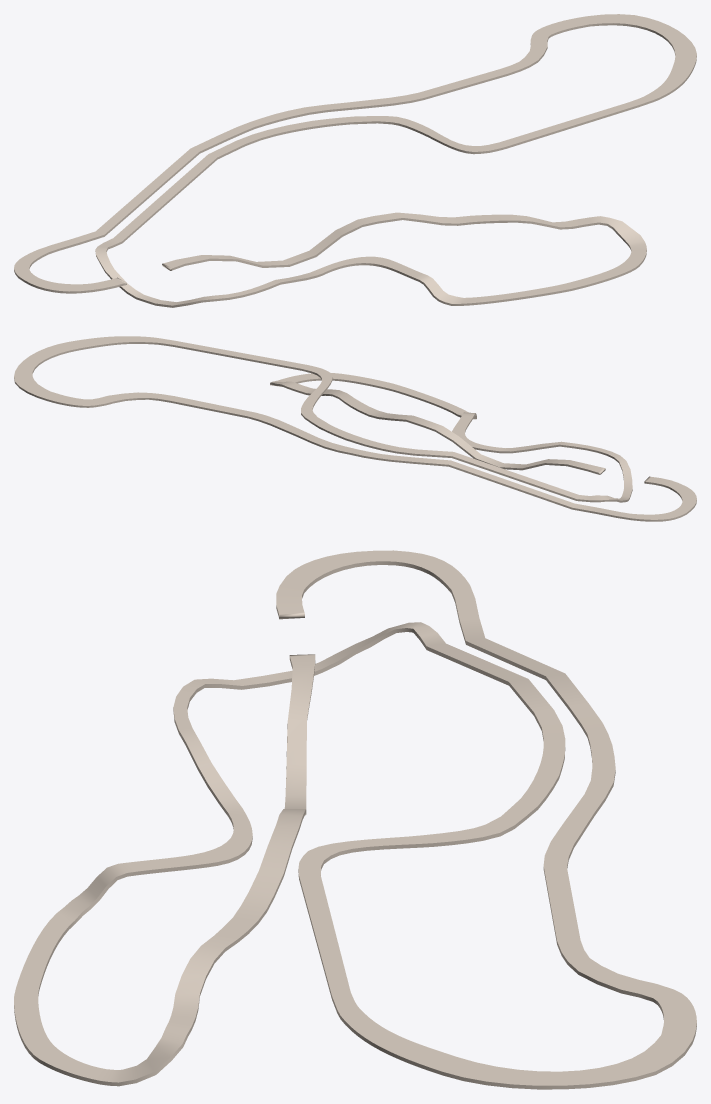
The model's file is AkropolisRennstrecke.fbx.
3 views of the same model, one above another, from view 1: azimuth 30°, elevation 25°; view 2: azimuth 150°, elevation 25°; view 3: azimuth 270°, elevation 25° (orthographic). The views are drawn at different scales.
Parts seen in each view (by area): view 1: AkropolisRennstrecke; view 2: AkropolisRennstrecke; view 3: AkropolisRennstrecke.
Part boxes in pixels (bbox=[...]): AkropolisRennstrecke: bbox=[14, 14, 696, 307]; AkropolisRennstrecke: bbox=[14, 336, 696, 521]; AkropolisRennstrecke: bbox=[14, 550, 696, 1089].
Bounding box in the file's own units: 343 × 37.25 × 165.
